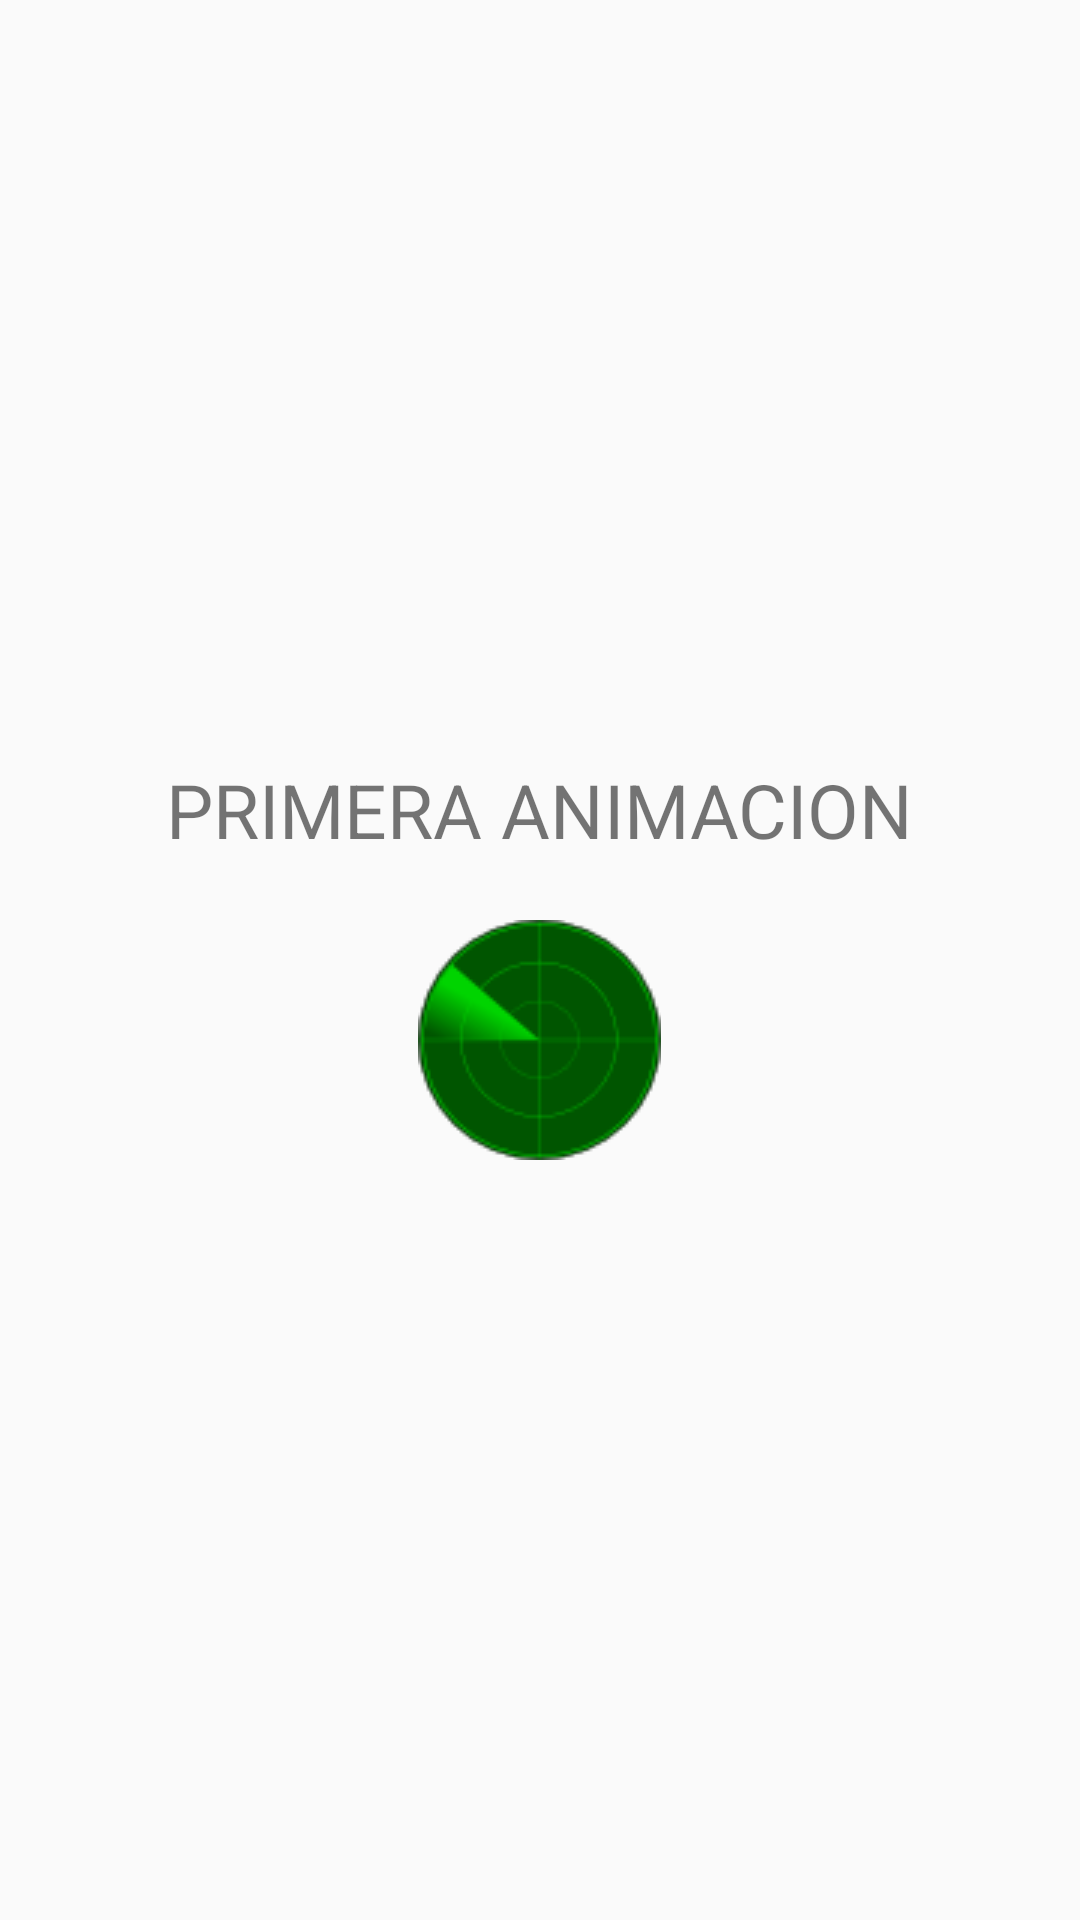

Icon bounding boxes for this 1080px x 1920px phone screenshot, format detection(x1, y1, x2, y2):
radar: detection(418, 920, 661, 1160)
